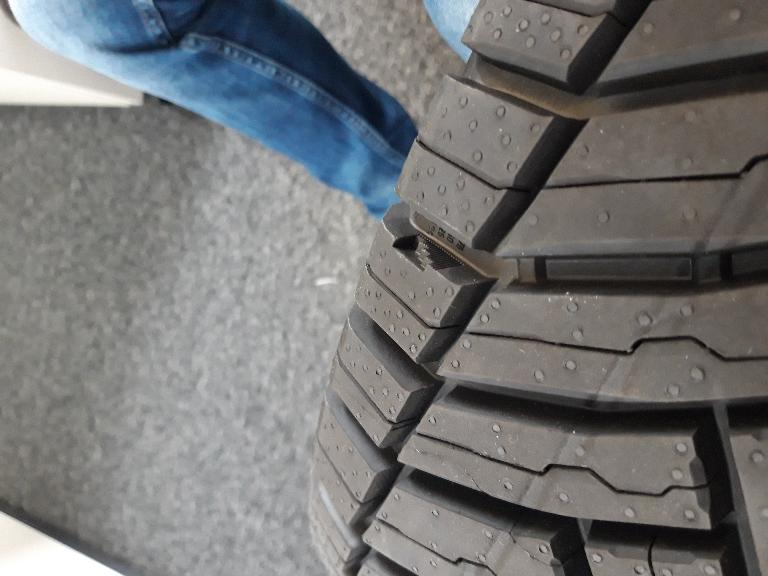temoin:100: (392, 233, 463, 275)
